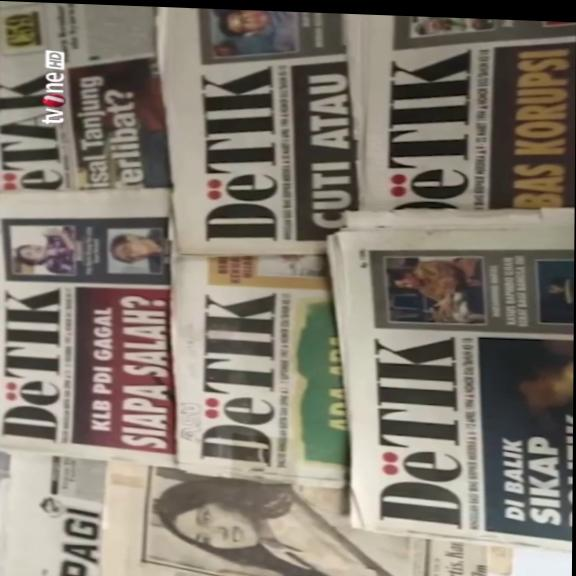Kertas: (329, 192, 575, 575), (152, 9, 362, 263), (0, 187, 178, 460), (95, 455, 451, 576), (168, 257, 350, 486), (0, 9, 171, 197), (0, 450, 113, 576)
